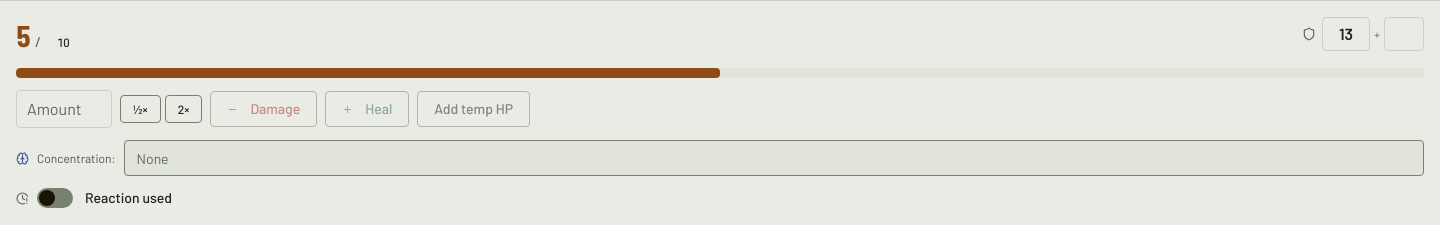
Scenario: DetailVitals › ½× halves the amount field only — does not apply damage
In the field with placeholder "Amount": (64, 109) 16,90 -> 112,128, type "10"
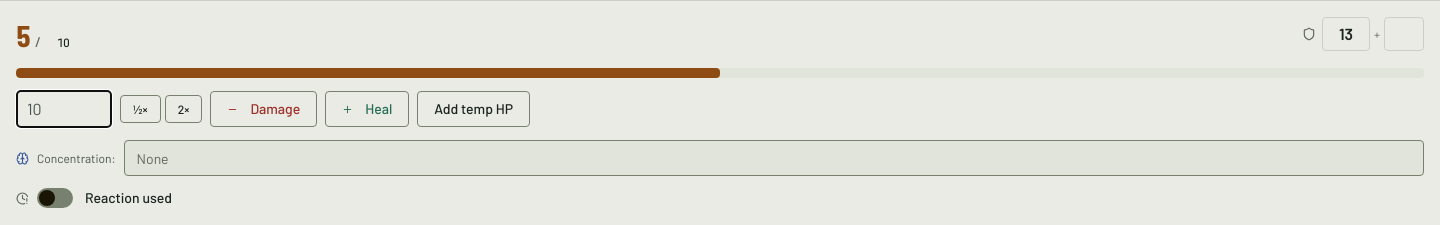
Click the button named "½× Halve damage (resistance)": click(140, 109) 120,95 -> 161,123
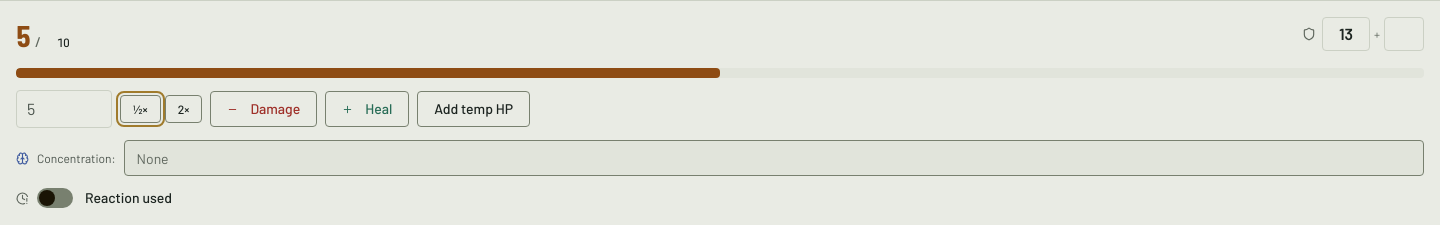
Expected: the field with placeholder "Amount" holds "5", 16,90 -> 112,128
